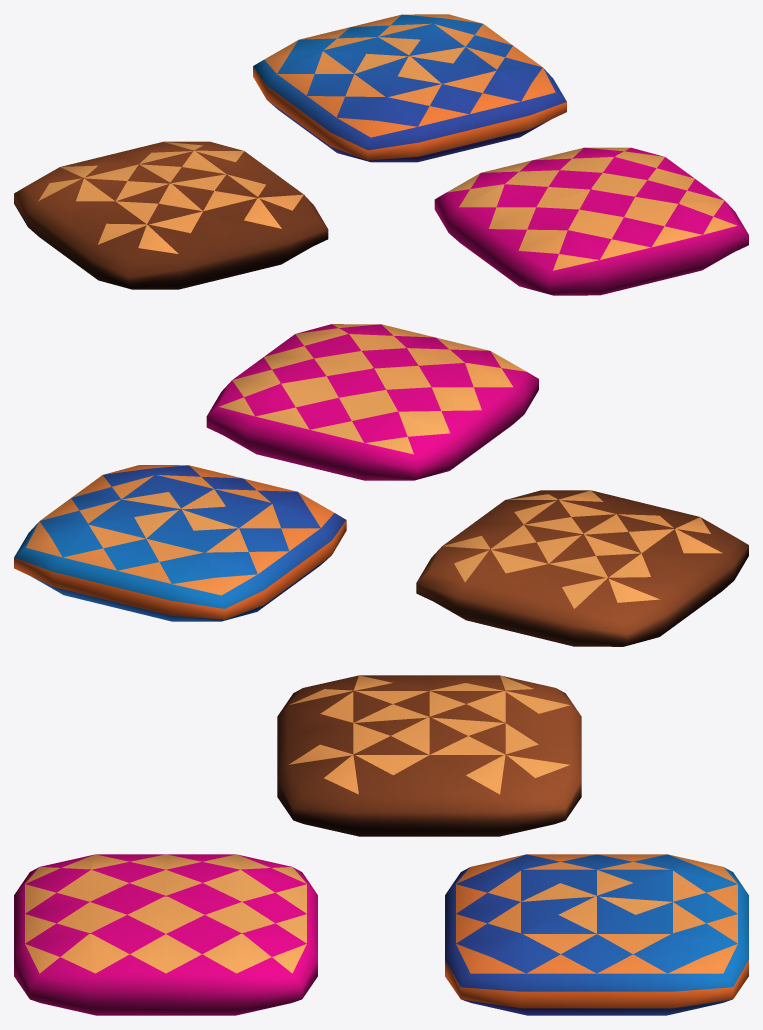
File: pillows.FBX
The picture shows the model from 3 angles, top to bottom: view 1: azimuth 30°, elevation 25°; view 2: azimuth 150°, elevation 25°; view 3: azimuth 270°, elevation 25°; orthographic projection. The views are drawn at different scales.
Visible parts, largest first — view 1: pillow 2, pillow 003, pillow; view 2: pillow, pillow 2, pillow 003; view 3: pillow 003, pillow, pillow 2.
Boxes of the visible parts, box(x1,y1,x2,y2) form: pillow 2: box(434, 147, 748, 295); pillow 003: box(14, 141, 328, 289); pillow: box(253, 14, 566, 162); pillow: box(14, 465, 346, 621); pillow 2: box(206, 324, 538, 480); pillow 003: box(416, 490, 748, 646); pillow 003: box(277, 675, 581, 836); pillow: box(445, 854, 748, 1015); pillow 2: box(14, 854, 317, 1015).
Bounding box in the file's own units: 401 × 47.04 × 405.
1 material, 1 textured.
